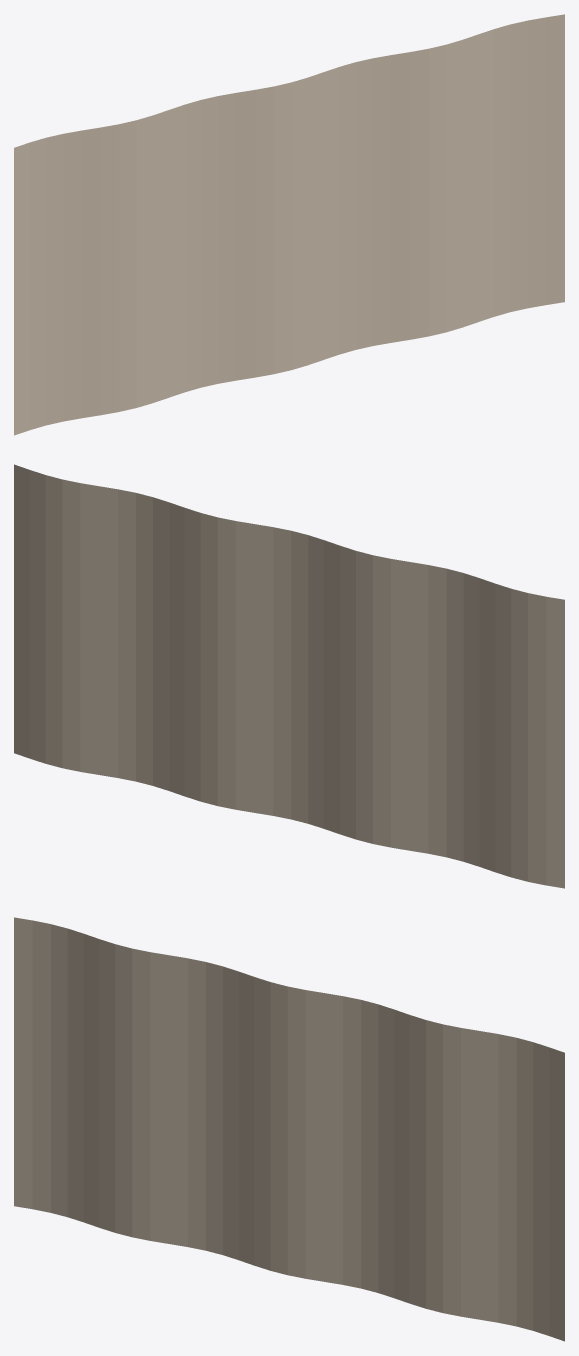
Rendered from muro_LOD1.glb.
The picture shows the model from 3 angles, top to bottom: view 1: azimuth 30°, elevation 25°; view 2: azimuth 150°, elevation 25°; view 3: azimuth 330°, elevation 25°; orthographic projection.
Parts seen in each view (by area): view 1: muro_LOD1; view 2: muro_LOD1; view 3: muro_LOD1.
Part boxes in pixels (<box>): muro_LOD1: <box>14,14,564,435</box>; muro_LOD1: <box>14,464,564,888</box>; muro_LOD1: <box>14,917,564,1341</box>.
Size of the model in its own units: 4 by 2 by 0.0593.
